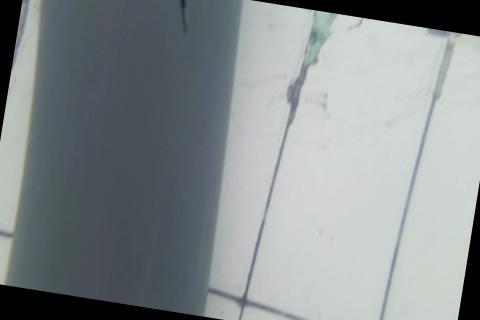keretakan: (169, 0, 196, 36)
